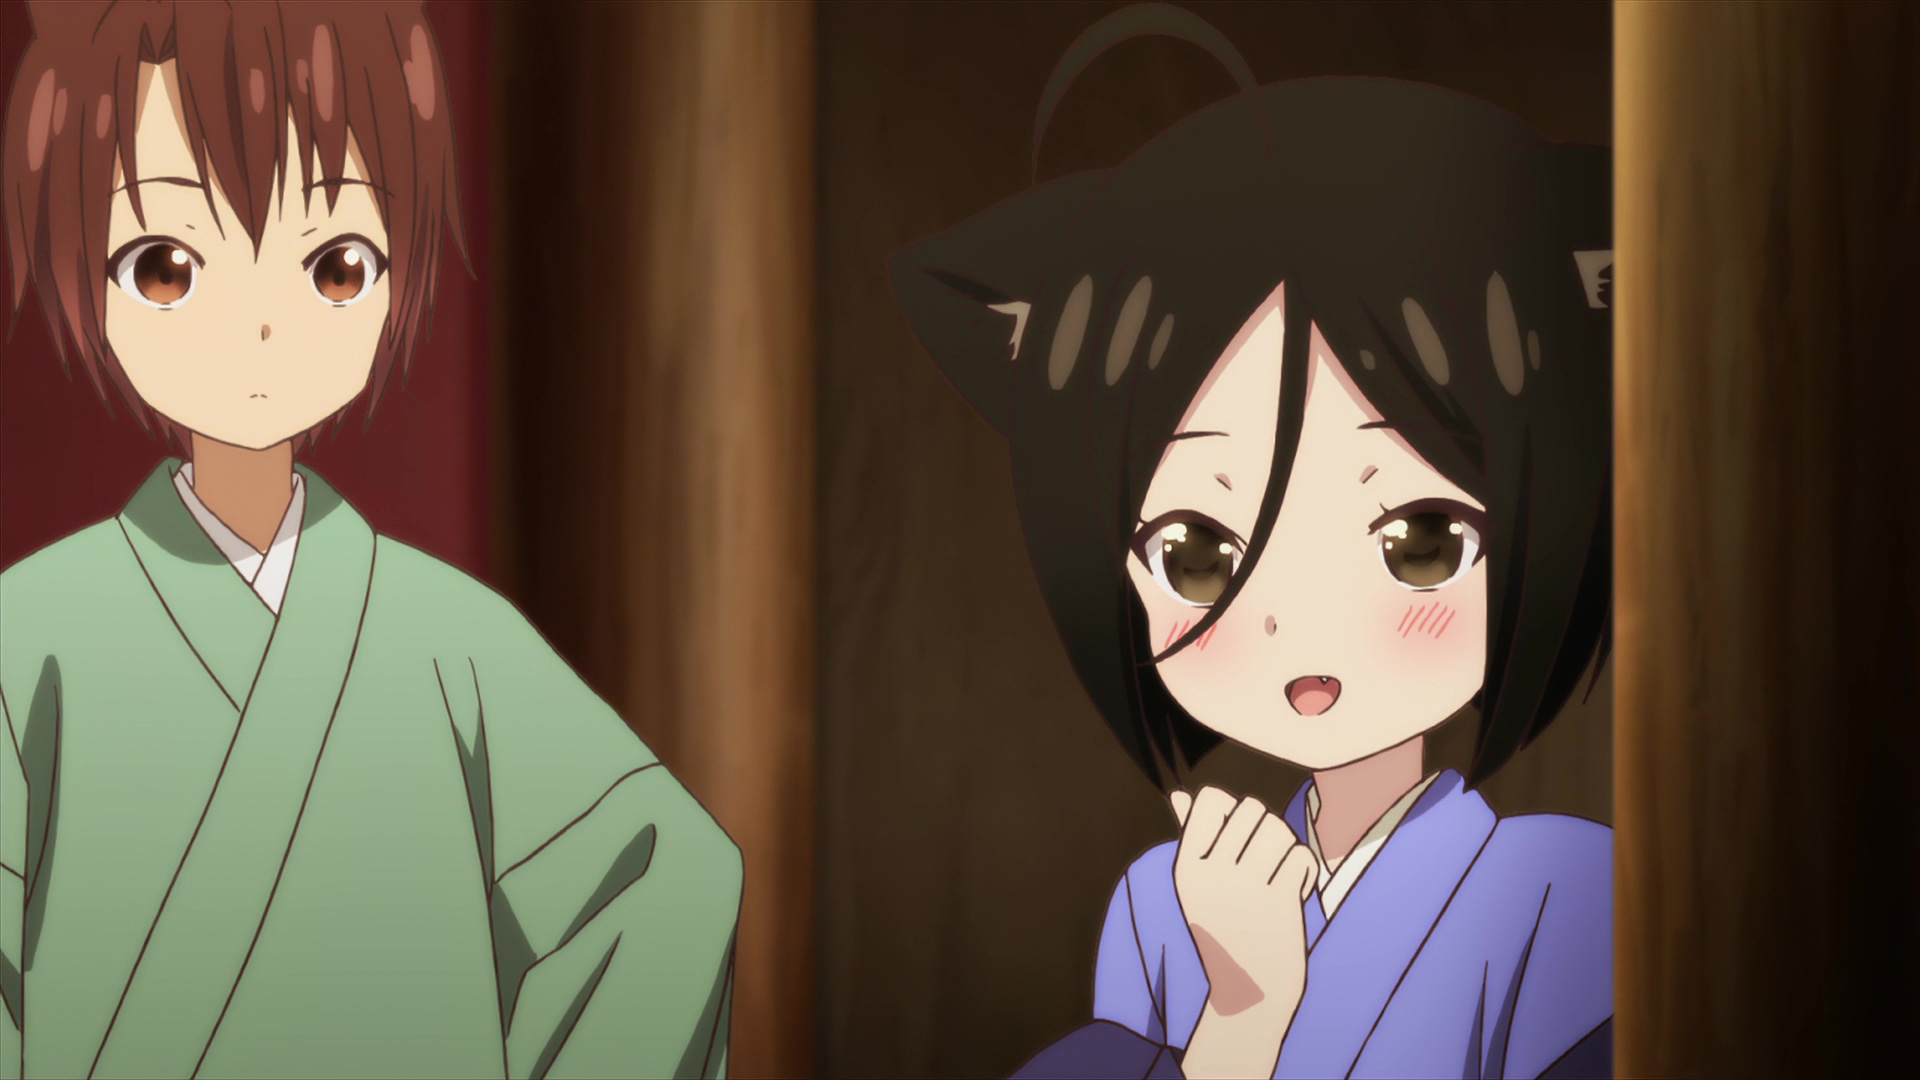其他: (901, 1, 1611, 1080)
枣: (1, 1, 746, 1080)
